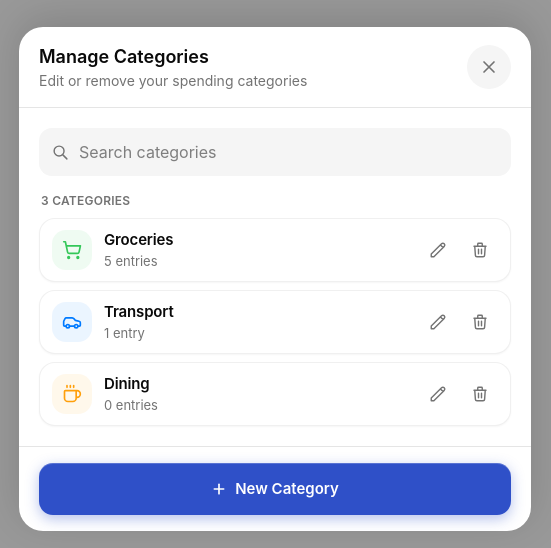
Test case: ManageCategoriesPopin › shows a clear button only while a query is typed, and clicking it resets the search
The width and height of the screenshot is (551, 548).
Step 1. Type "gro" into the field with placeholder "Search categories" → (288, 152), box [79, 140, 498, 164]
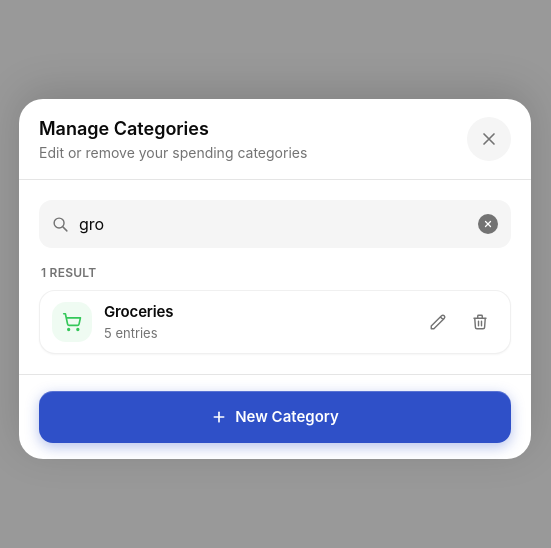
Step 2. Click the button named "Clear search" → (488, 224), box [478, 214, 498, 234]
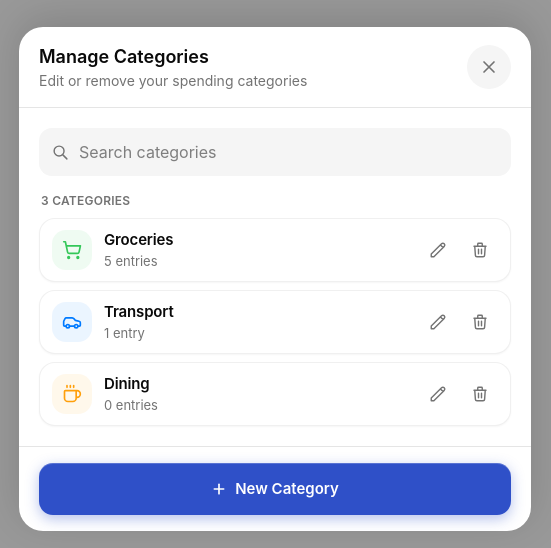
Result: the field with placeholder "Search categories" is empty at [79, 140, 498, 164]
Result: the text "Transport" is shown at [104, 301, 174, 324]
Result: the text "Dining" is shown at [104, 374, 150, 393]
